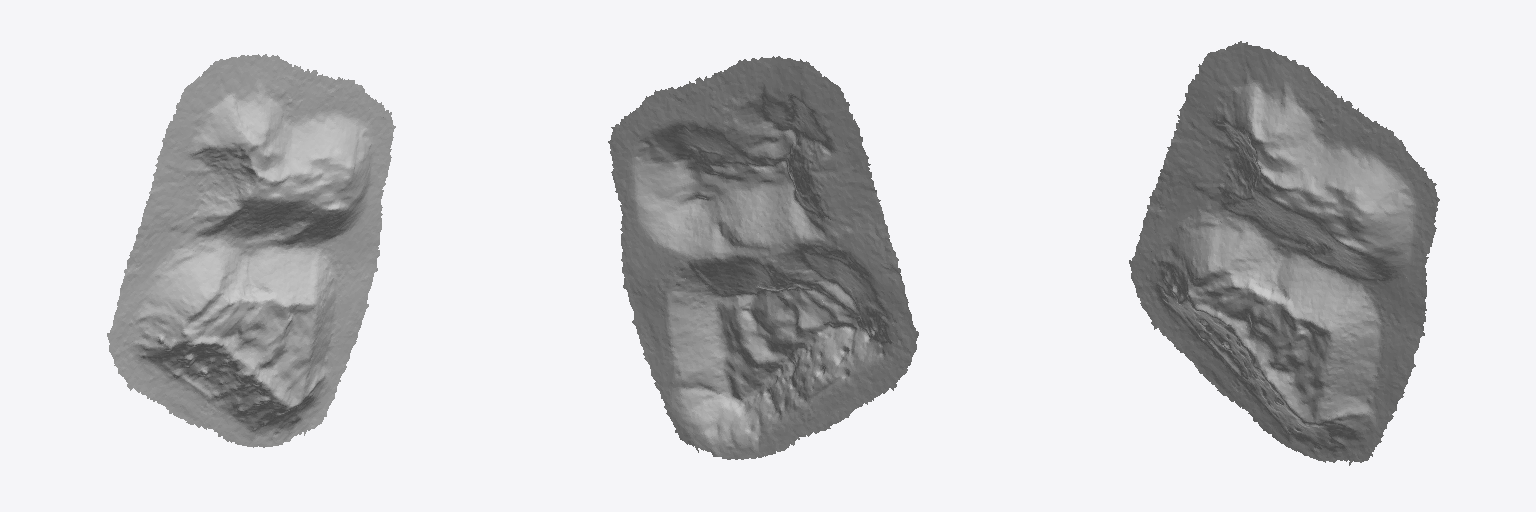
File: Double-Piles-WordJack.obj
3 renders of one model, left to right at view 1: azimuth 30°, elevation 25°; view 2: azimuth 150°, elevation 25°; view 3: azimuth 330°, elevation 25°, orthographic.
Bounding box in the file's own units: 4.02 × 5.26 × 0.5369.